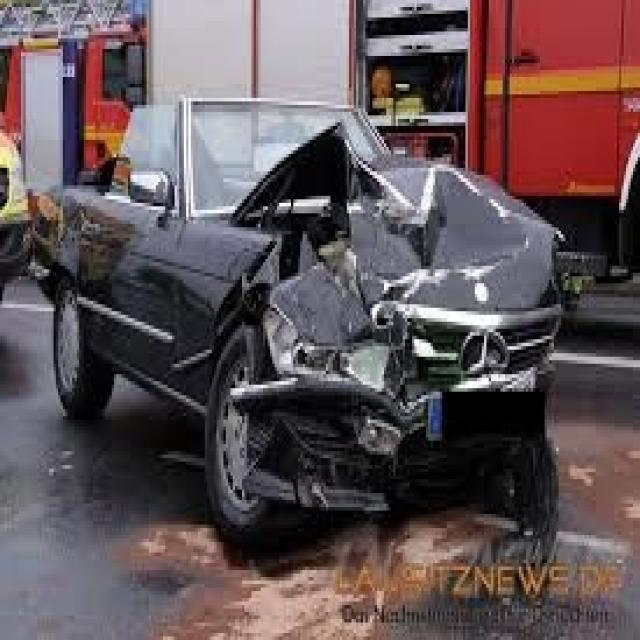accident: (16, 101, 575, 538)
